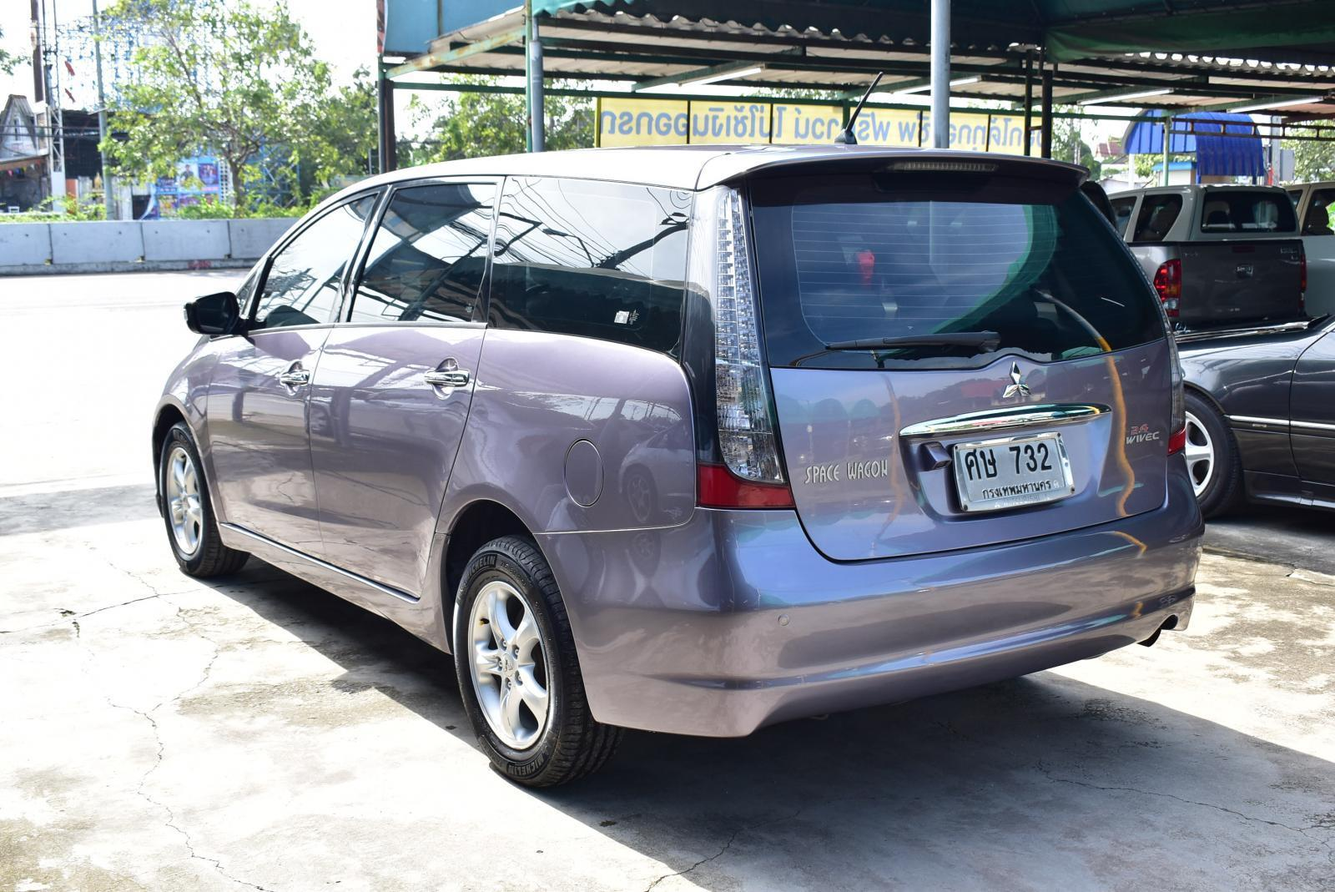license-plate: (948, 418, 1079, 519)
